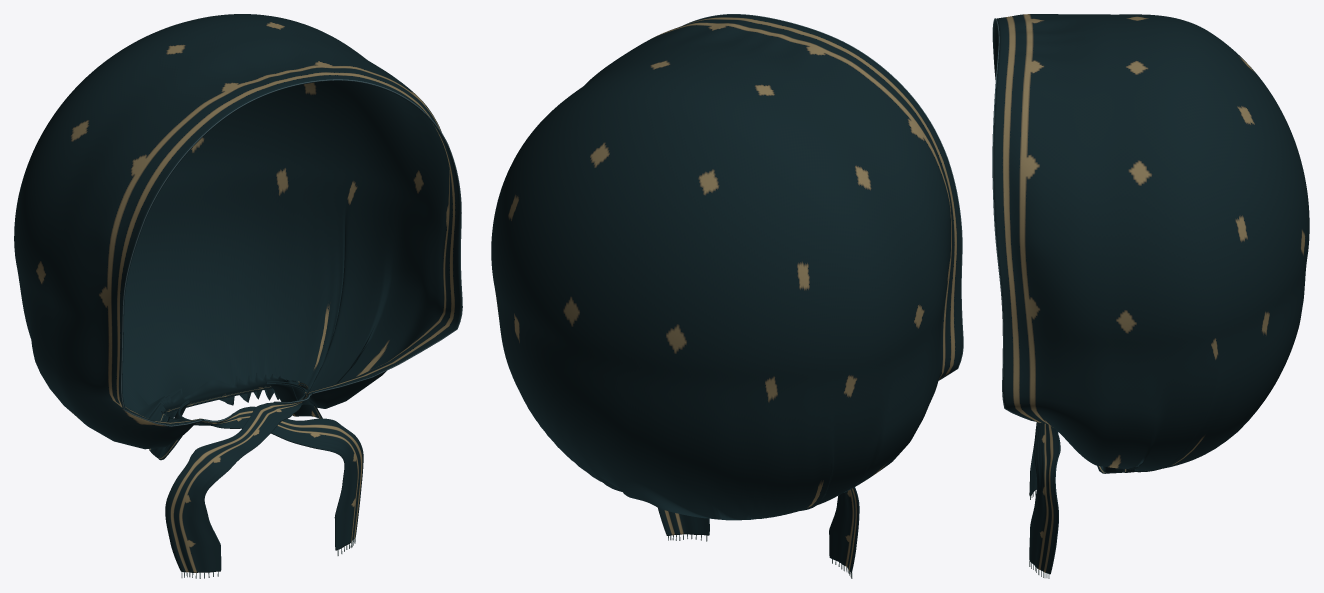
Rendered from Masculine-middle-part-jersey-pashmina250-headgear.glb.
3 renders of one model, left to right at view 1: azimuth 30°, elevation 25°; view 2: azimuth 150°, elevation 25°; view 3: azimuth 270°, elevation 25°, orthographic. The views are drawn at different scales.
Parts seen in each view (by area): view 1: 226 headgear / Headwear / continuous woven pashmina239, 226 headgear / Headwear / face edge239; view 2: 226 headgear / Headwear / continuous woven pashmina239, 226 headgear / Headwear / face edge239; view 3: 226 headgear / Headwear / continuous woven pashmina239, 226 headgear / Headwear / face edge239.
Part boxes in pixels (bbox=[...]): 226 headgear / Headwear / continuous woven pashmina239: bbox=[14, 14, 461, 572]; 226 headgear / Headwear / face edge239: bbox=[121, 79, 462, 426]; 226 headgear / Headwear / continuous woven pashmina239: bbox=[491, 14, 962, 572]; 226 headgear / Headwear / face edge239: bbox=[683, 14, 963, 380]; 226 headgear / Headwear / continuous woven pashmina239: bbox=[993, 14, 1309, 574]; 226 headgear / Headwear / face edge239: bbox=[992, 18, 1034, 421].
Bounding box in the file's own units: 1.1 × 1.39 × 0.7949.
3 materials, 1 textured.
